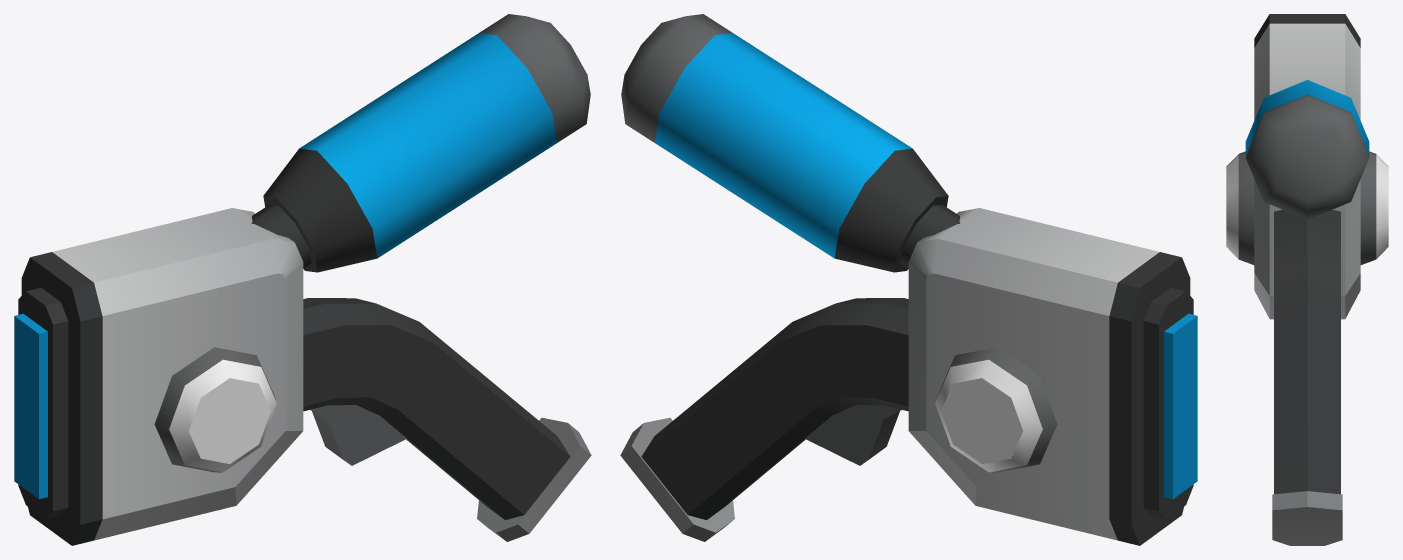
The model's file is Scaner_005.fbx.
3 renders of one model, left to right at view 1: azimuth 30°, elevation 25°; view 2: azimuth 150°, elevation 25°; view 3: azimuth 270°, elevation 25°, orthographic. The views are drawn at different scales.
Visible parts, largest first — view 1: Scaner_005; view 2: Scaner_005; view 3: Scaner_005.
Boxes of the visible parts, <box> form: Scaner_005: <box>14,14,591,545</box>; Scaner_005: <box>620,14,1197,545</box>; Scaner_005: <box>1226,14,1388,545</box>.
Bounding box in the file's own units: 46.14 × 12.99 × 40.84.
